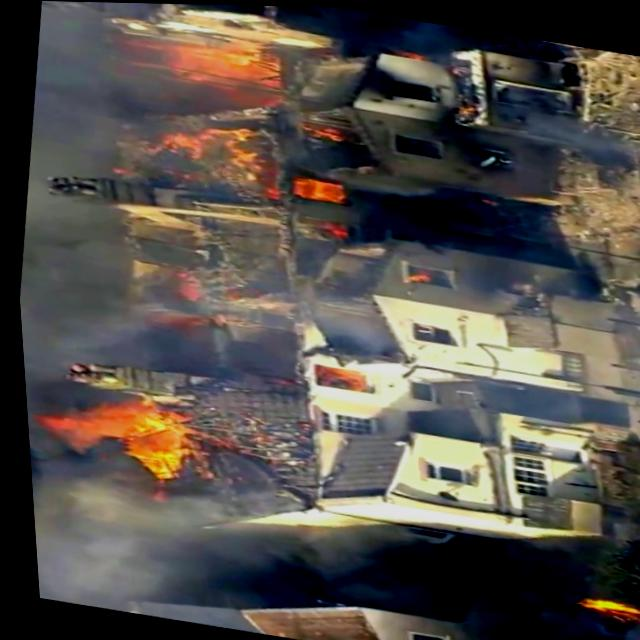fire: (20, 375, 184, 471), (142, 15, 297, 107)
